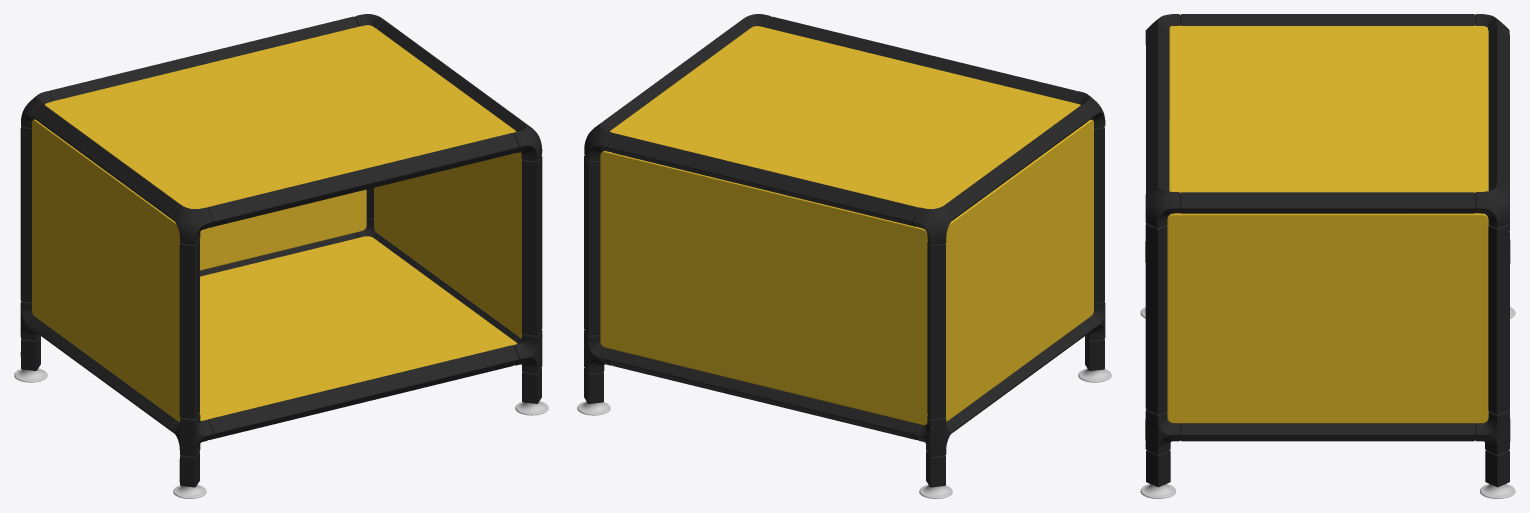
The picture shows the model from 3 angles, left to right: view 1: azimuth 30°, elevation 25°; view 2: azimuth 150°, elevation 25°; view 3: azimuth 270°, elevation 25°; orthographic projection. The views are drawn at different scales.
Parts seen in each view (by area): view 1: 420x329x229; view 2: 420x329x229; view 3: 420x329x229.
Boxes of the visible parts, x1=… form: 420x329x229: x1=14, y1=14, x2=548, y2=498; 420x329x229: x1=577, y1=14, x2=1111, y2=498; 420x329x229: x1=1140, y1=14, x2=1515, y2=498.
Bounding box in the file's own units: 0.5099 × 0.3683 × 0.4182.
